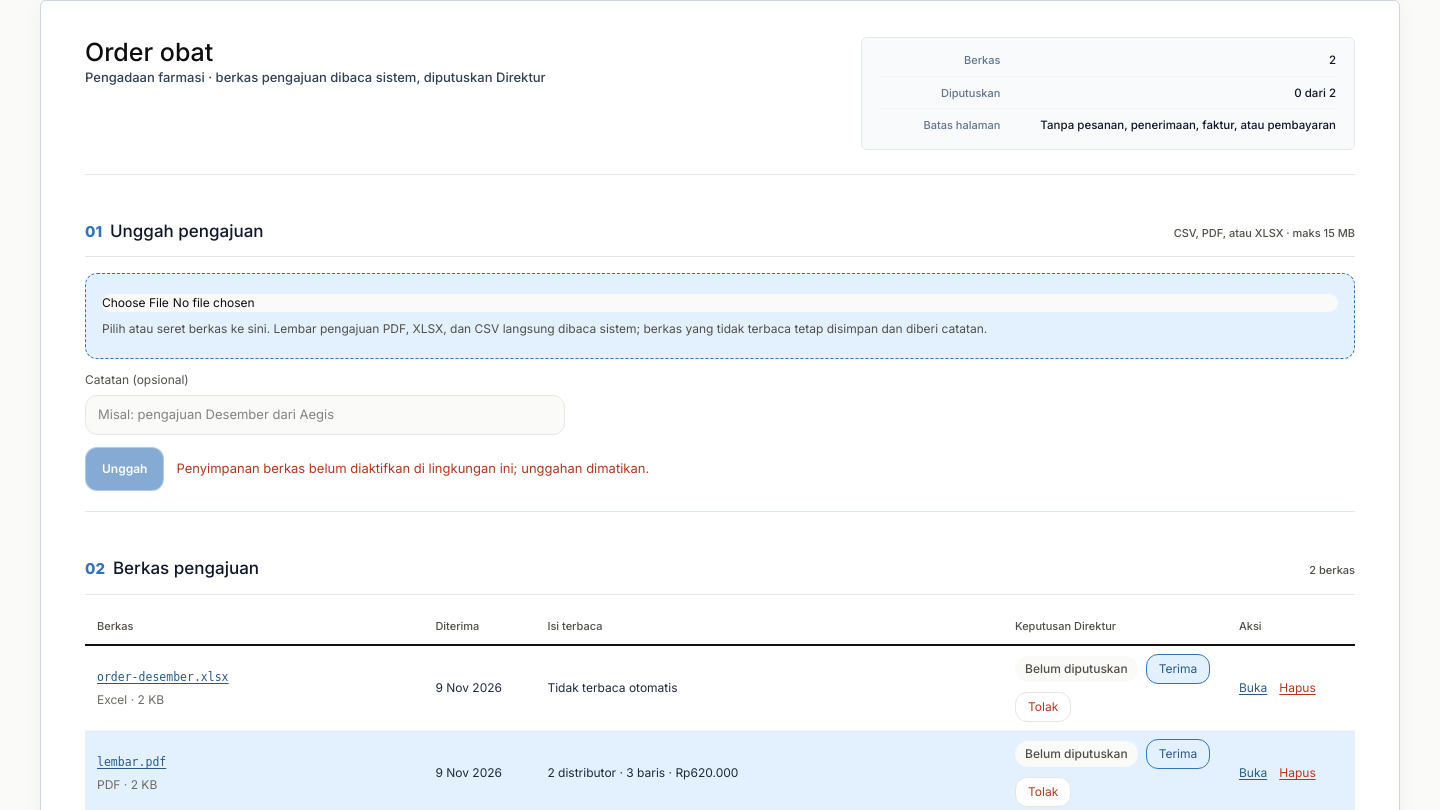
Test: order obat page: loading a file's content › shows the loading text while a clicked file loads, then the notice for what came back
Click the button "order-desember.xlsx". click: (163, 678)
box: [97,669,229,687]
(page scrolled)
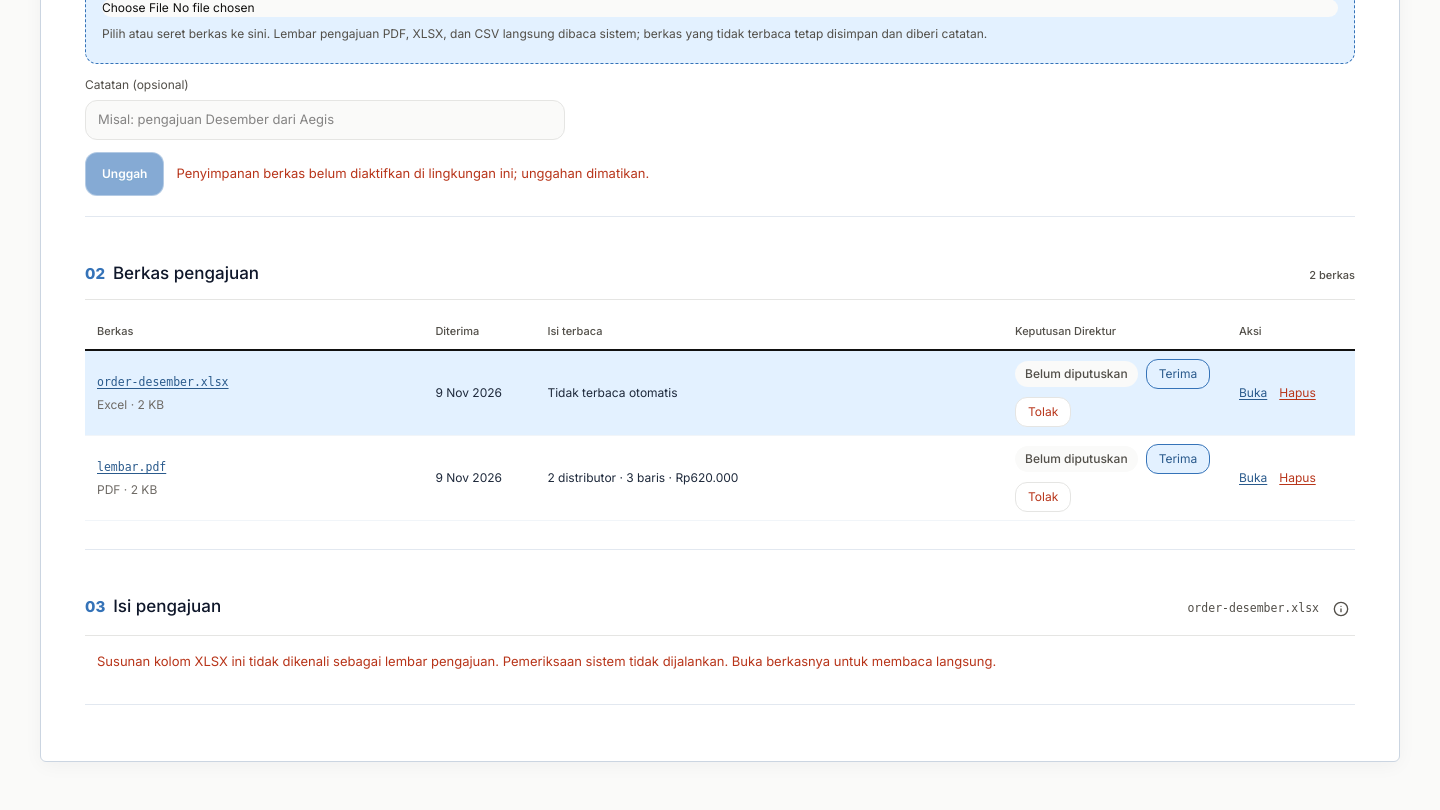
Expected: the text "Susunan kolom XLSX ini tidak dikenali sebagai lembar pengajuan. Pemeriksaan sistem tidak dijalankan. Buka berkasnya untu" is shown, [97,653,996,669]
